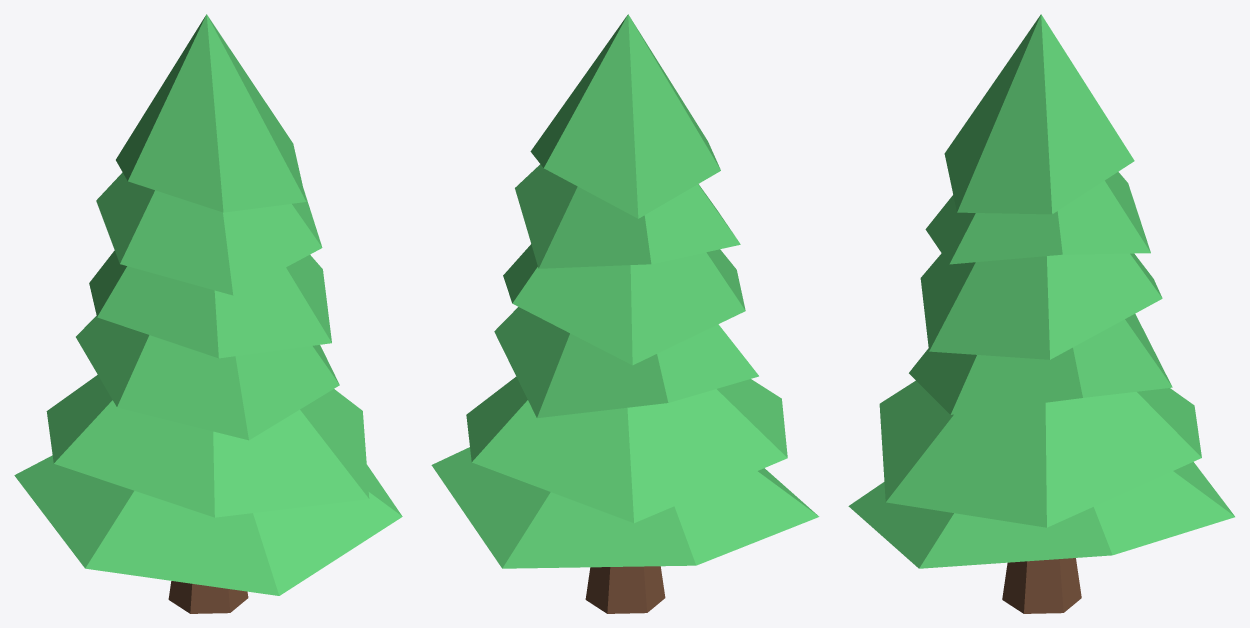
Rendered from fir_tree_poly_3.fbx.
The picture shows the model from 3 angles, left to right: view 1: azimuth 30°, elevation 25°; view 2: azimuth 150°, elevation 25°; view 3: azimuth 270°, elevation 25°; orthographic projection.
Visible parts, largest first — view 1: fir_tree_poly_3; view 2: fir_tree_poly_3; view 3: fir_tree_poly_3.
Boxes of the visible parts, x1,y1,x2,y2 form: fir_tree_poly_3: (14,14,402,613); fir_tree_poly_3: (431,14,819,613); fir_tree_poly_3: (848,14,1234,613).
Size of the model in its own units: 3.43 by 6.05 by 3.64.
